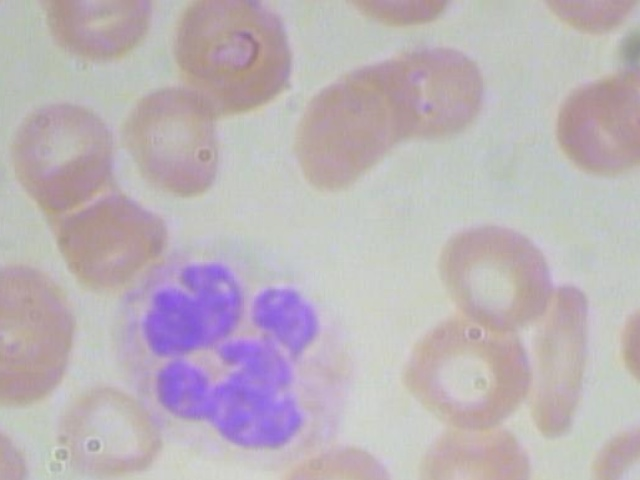RBC: (383, 311, 536, 434), (436, 213, 562, 328), (388, 38, 507, 150), (2, 93, 118, 204), (118, 81, 221, 203), (47, 383, 166, 479), (296, 78, 391, 197), (528, 270, 591, 438), (545, 71, 640, 174), (0, 253, 76, 362), (0, 307, 73, 413), (602, 61, 640, 160), (610, 289, 640, 397)
WBC: (102, 246, 373, 460)
